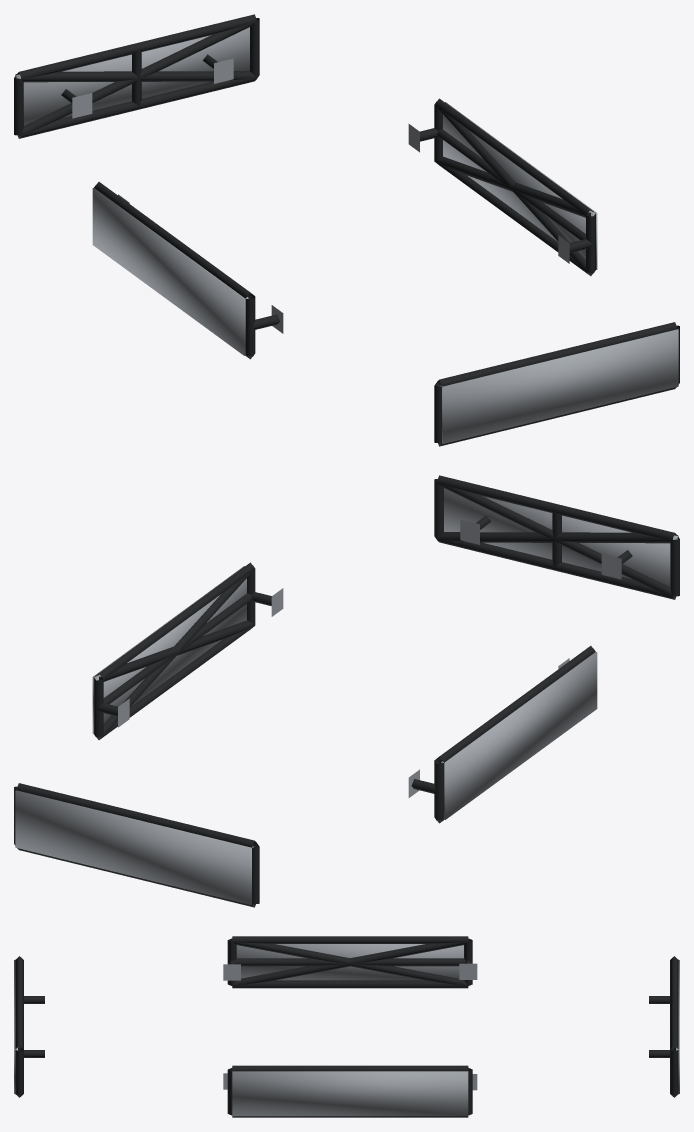
File: dunmere_carvalho_protecao.glb
3 views of the same model, one above another, from view 1: azimuth 30°, elevation 25°; view 2: azimuth 150°, elevation 25°; view 3: azimuth 270°, elevation 25° (orthographic). The views are drawn at different scales.
Visible parts, largest first — view 1: Protection_front_Level3_Details, Protection_left_Level3_Details, Protection_rear_Level1_Details, Protection_rear_Level3_Details, Protection_right_Level1_Details, Protection_rear_Level2_Details, Protection_right_Level2_Details, Protection_right_Level3_Details, Protection_front_Level1_Details, Protection_left_Level1_Details; view 2: Protection_rear_Level3_Details, Protection_left_Level3_Details, Protection_front_Level1_Details, Protection_front_Level3_Details, Protection_right_Level1_Details, Protection_front_Level2_Details, Protection_right_Level2_Details, Protection_right_Level3_Details, Protection_rear_Level1_Details, Protection_left_Level1_Details; view 3: Protection_right_Level3_Details, Protection_left_Level2_Details, Protection_left_Level1_Details, Protection_left_Level3_Details, Protection_right_Level1_Details, Protection_rear_Level1_Details, Protection_front_Level1_Details.
Part boxes in pixels (x1,y1,x2,y2): Protection_front_Level3_Details: [440, 329, 678, 443]; Protection_left_Level3_Details: [92, 188, 248, 355]; Protection_rear_Level1_Details: [14, 14, 259, 138]; Protection_rear_Level3_Details: [15, 27, 249, 125]; Protection_right_Level1_Details: [408, 98, 595, 275]; Protection_rear_Level2_Details: [16, 22, 256, 137]; Protection_right_Level2_Details: [435, 105, 594, 275]; Protection_right_Level3_Details: [443, 102, 597, 269]; Protection_front_Level1_Details: [434, 322, 679, 446]; Protection_left_Level1_Details: [94, 182, 283, 359]; Protection_rear_Level3_Details: [15, 790, 253, 904]; Protection_left_Level3_Details: [441, 652, 597, 819]; Protection_front_Level1_Details: [434, 475, 679, 599]; Protection_front_Level3_Details: [444, 488, 678, 586]; Protection_right_Level1_Details: [94, 562, 283, 739]; Protection_front_Level2_Details: [437, 483, 677, 598]; Protection_right_Level2_Details: [94, 569, 254, 739]; Protection_right_Level3_Details: [92, 566, 246, 733]; Protection_rear_Level1_Details: [14, 783, 259, 907]; Protection_left_Level1_Details: [408, 646, 595, 823]; Protection_right_Level3_Details: [232, 1071, 468, 1116]; Protection_left_Level2_Details: [231, 938, 468, 986]; Protection_left_Level1_Details: [223, 936, 477, 988]; Protection_left_Level3_Details: [236, 944, 463, 980]; Protection_right_Level1_Details: [223, 1065, 477, 1117]; Protection_rear_Level1_Details: [649, 956, 678, 1097]; Protection_front_Level1_Details: [15, 956, 44, 1097].
Bounding box in the file's own units: 1.95 × 0.354 × 4.09.
1 material, 1 textured.
